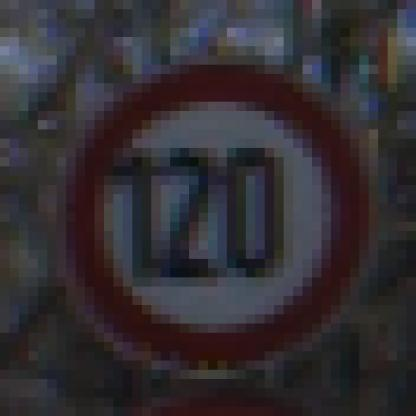Speed Limit -120-: (119, 103, 351, 337)
